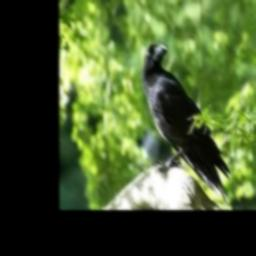Crow: (142, 40, 231, 206)
